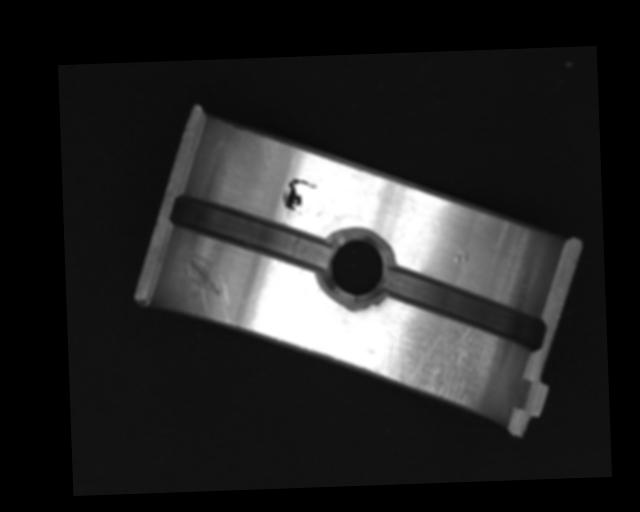blot: (281, 177, 318, 214)
bruise: (452, 245, 472, 263)
gap: (377, 261, 546, 357), (167, 187, 328, 273)
hole: (320, 231, 395, 302)
nick: (185, 248, 234, 325)
scratch: (373, 321, 508, 407)
